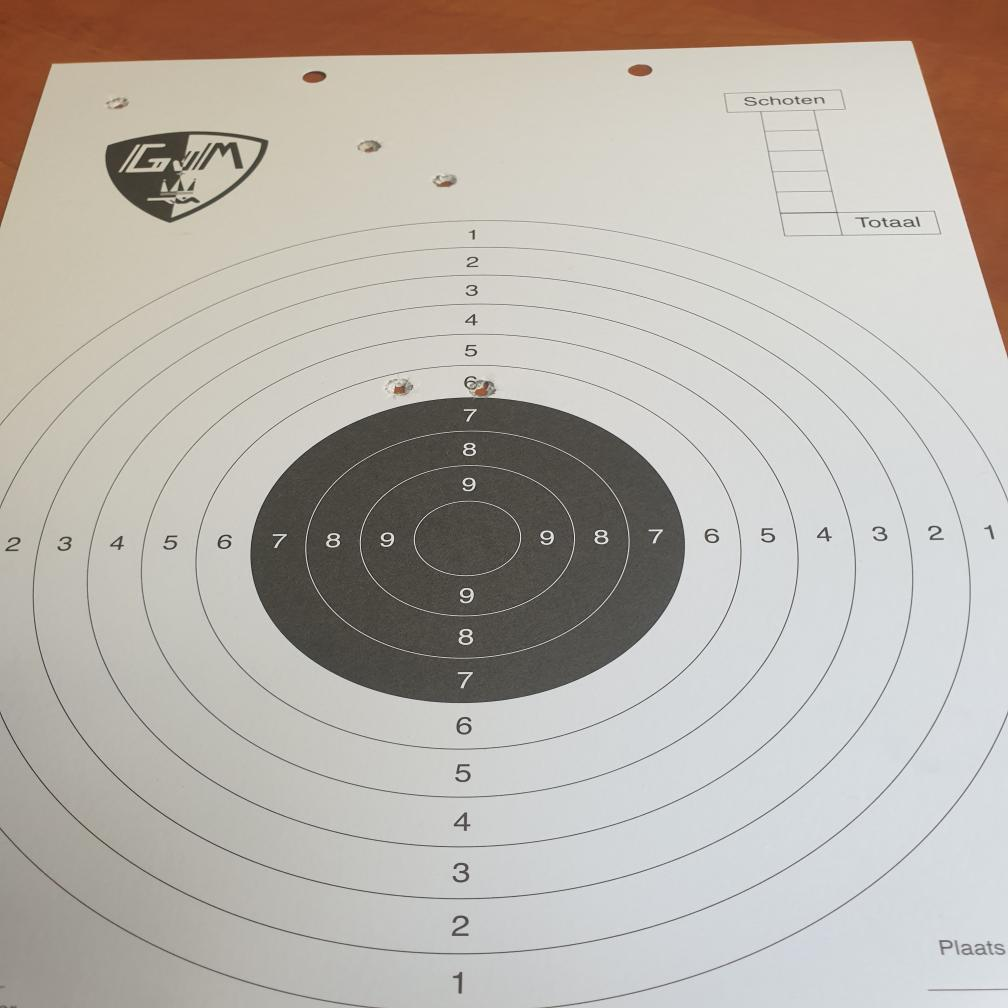0: (353, 135, 381, 156), (101, 96, 133, 110), (432, 173, 458, 190)
6: (380, 375, 414, 399), (465, 377, 501, 399)
Target: (0, 215, 1008, 1008)
black_contour: (250, 396, 687, 704)
